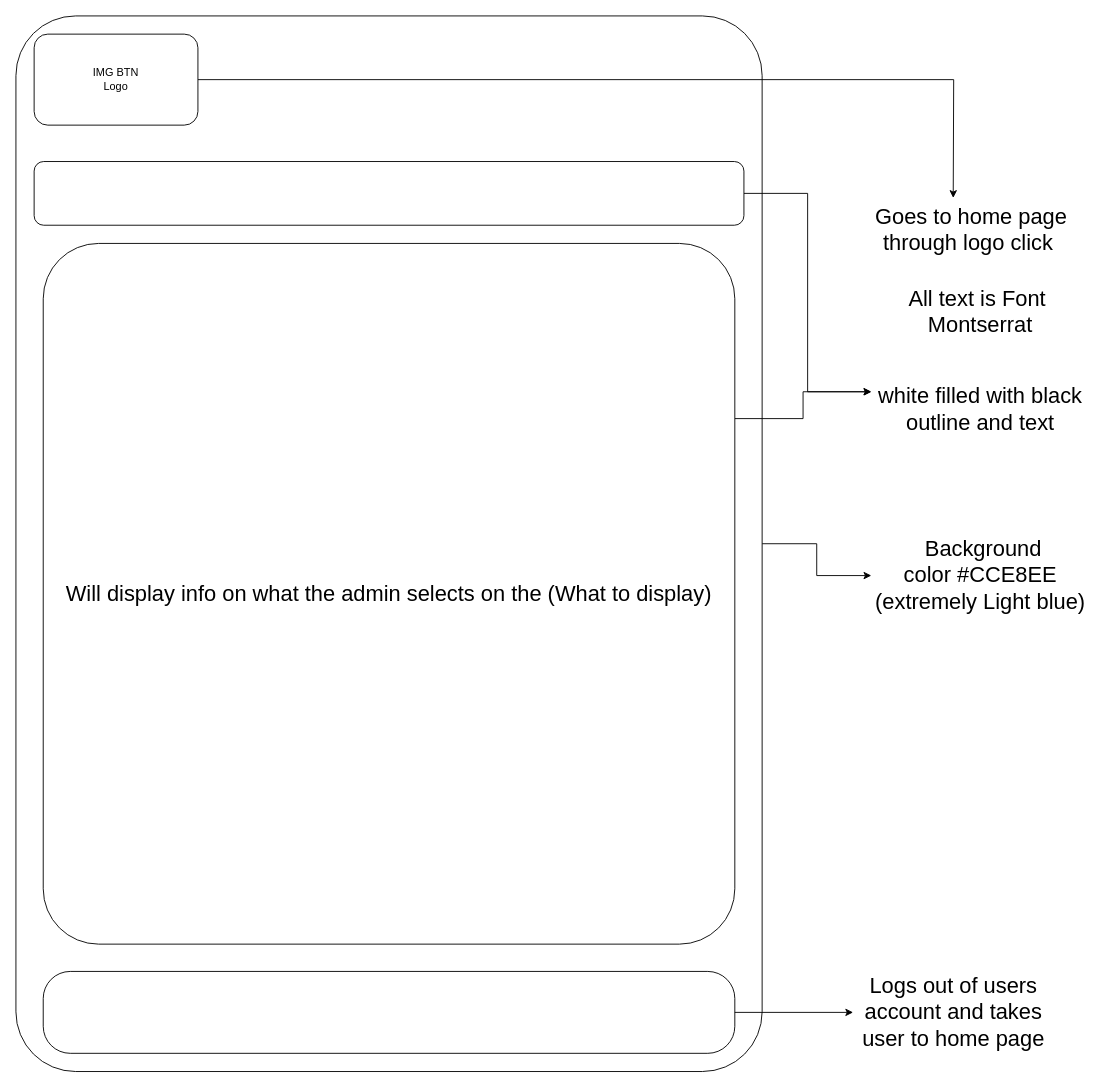
Some shapes in this 1106 by 1087 pixel diagram are drawn without their labels. The centre of each missing label's shape, as x and y in pixels:
(What to display selection) Users Suppliers Deals: [388,193]
Log Out: [388,1012]
